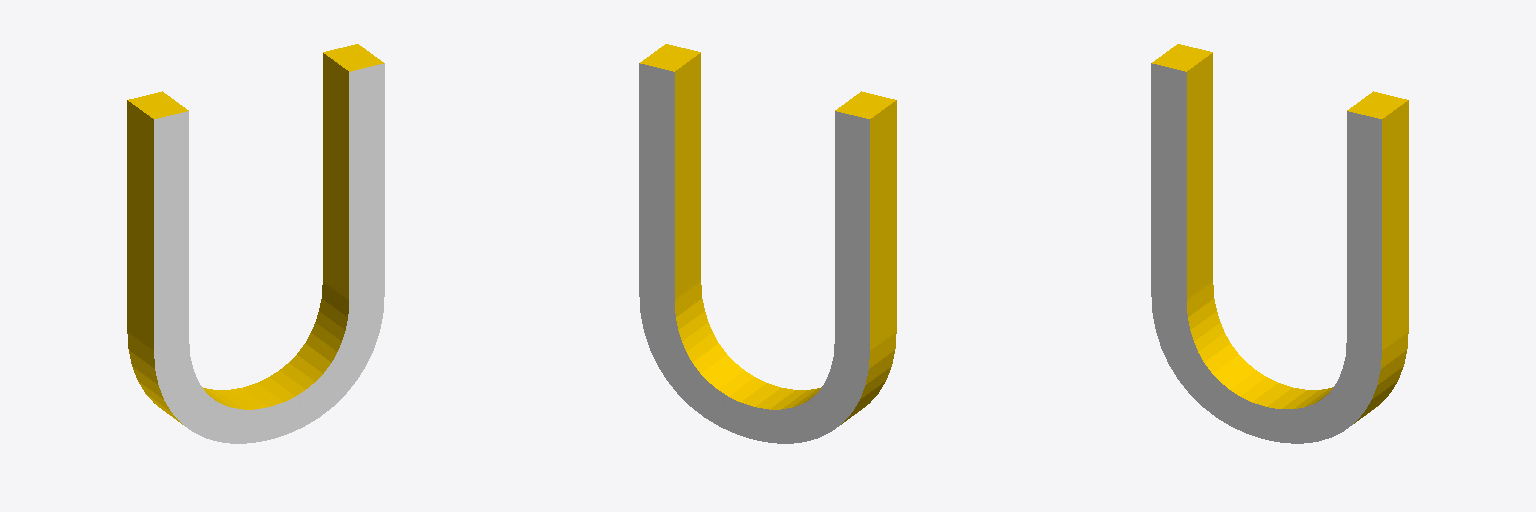
3 renders of one model, left to right at view 1: azimuth 30°, elevation 25°; view 2: azimuth 150°, elevation 25°; view 3: azimuth 330°, elevation 25°, orthographic.
Bounding box in the file's own units: 56.28 × 81.31 × 11.26.
5 materials, 1 textured.